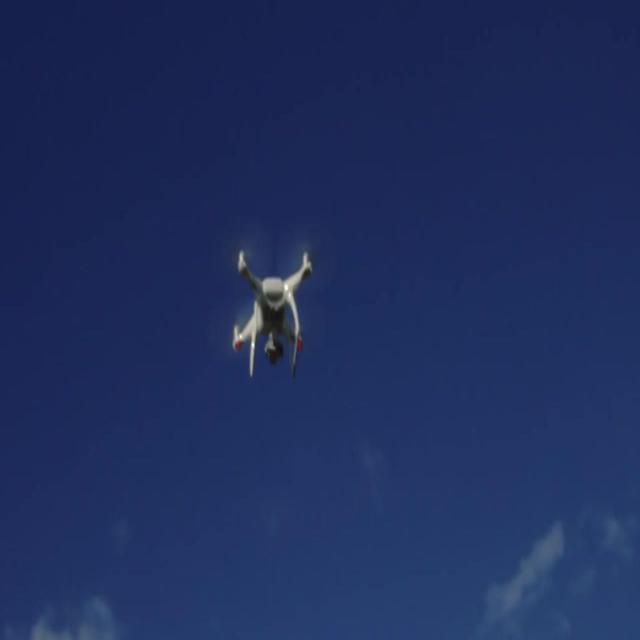UAV: (232, 250, 314, 380)
